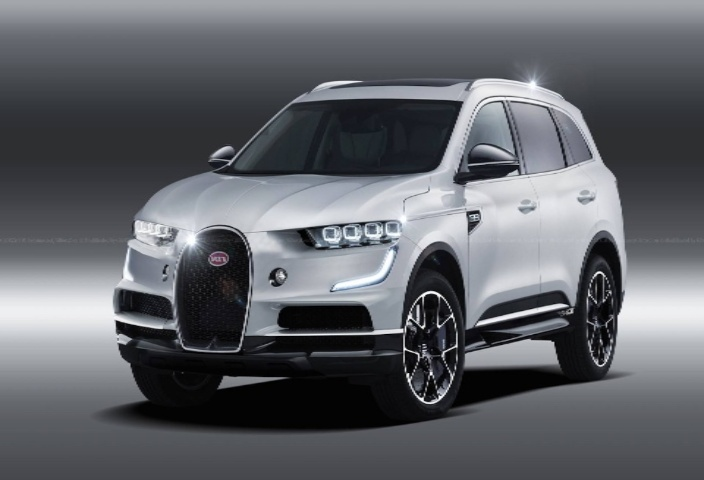camper: (80, 53, 642, 421)
